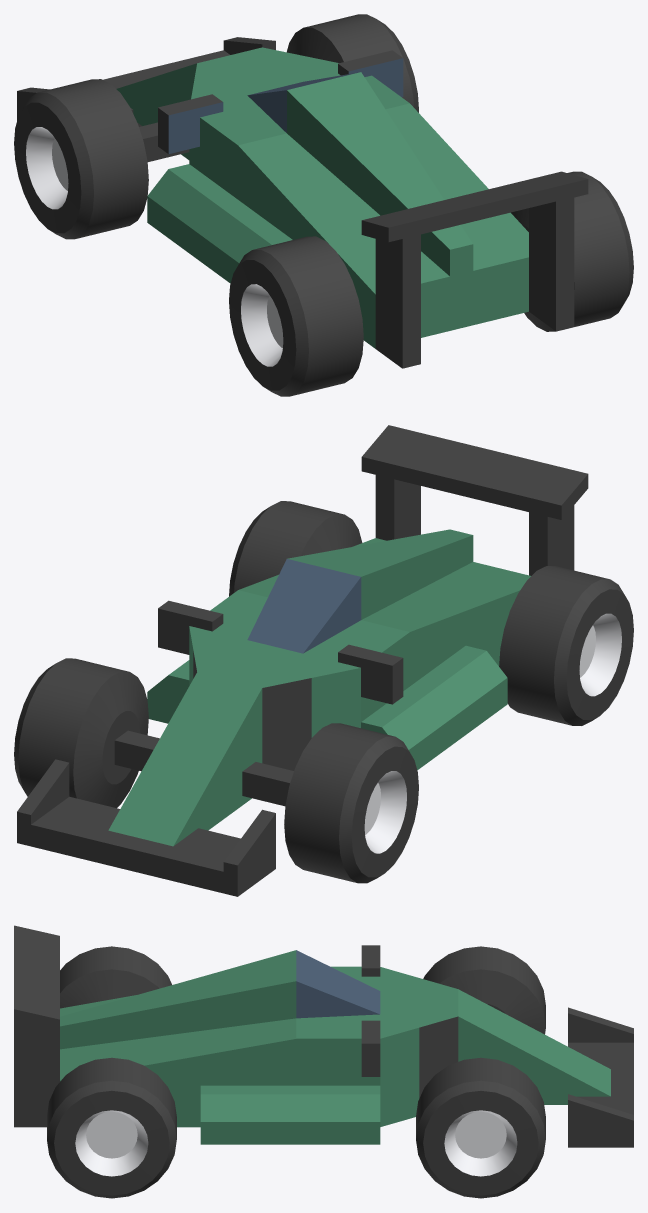
The model's file is raceCarGreen.obj.
The picture shows the model from 3 angles, top to bottom: view 1: azimuth 30°, elevation 25°; view 2: azimuth 150°, elevation 25°; view 3: azimuth 270°, elevation 25°; orthographic projection. The views are drawn at different scales.
Visible parts, largest first — view 1: body, wheelBackLeft, wheelFrontLeft, wheelBackRight, wheelFrontRight; view 2: body, wheelFrontLeft, wheelBackLeft, wheelFrontRight, wheelBackRight; view 3: body, wheelBackRight, wheelFrontRight, wheelFrontLeft, wheelBackLeft.
Boxes of the visible parts, box(x1,y1,x2,y2) form: body: box(17, 37, 588, 368); wheelBackLeft: box(229, 236, 363, 396); wheelFrontLeft: box(14, 79, 148, 239); wheelBackRight: box(511, 171, 633, 331); wheelFrontRight: box(287, 14, 418, 112); body: box(17, 425, 588, 896); wheelFrontLeft: box(284, 723, 418, 883); wheelBackLeft: box(499, 566, 633, 725); wheelFrontRight: box(14, 658, 148, 808); wheelBackRight: box(229, 501, 362, 596); body: box(14, 925, 633, 1147); wheelBackRight: box(47, 1057, 176, 1198); wheelFrontRight: box(416, 1057, 545, 1198); wheelFrontLeft: box(423, 946, 545, 1034); wheelBackLeft: box(60, 946, 171, 1008).
Size of the model in its own units: 0.7288 by 0.397 by 1.35.
